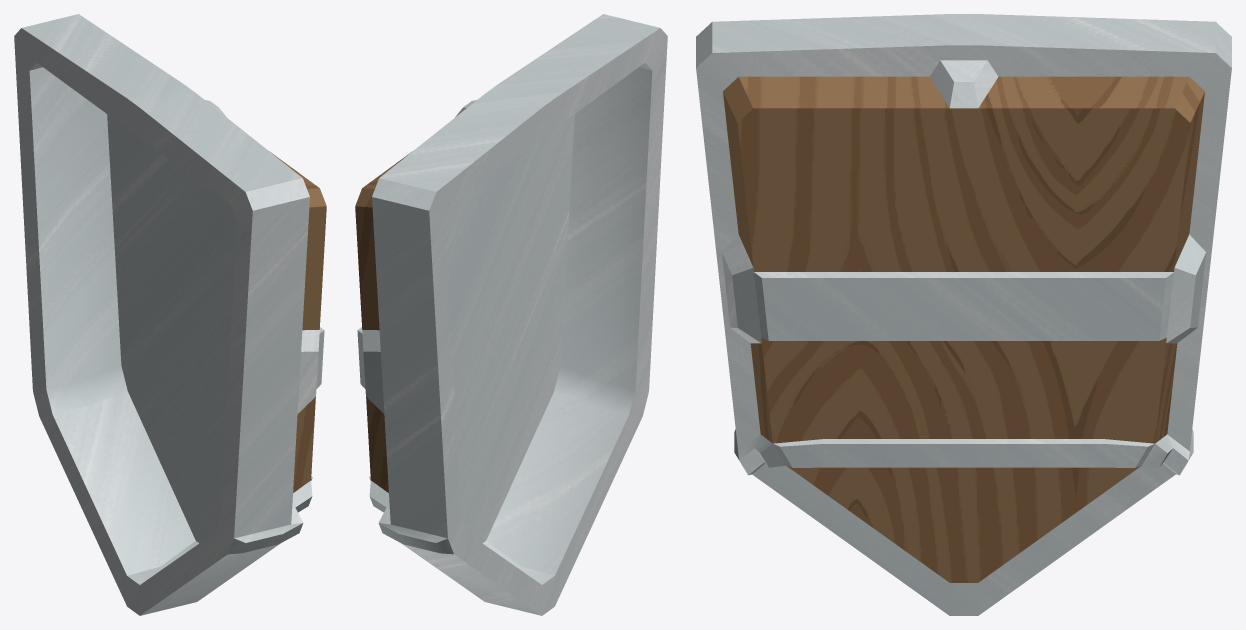
File: ShieldS.fbx
3 renders of one model, left to right at view 1: azimuth 30°, elevation 25°; view 2: azimuth 150°, elevation 25°; view 3: azimuth 270°, elevation 25°, orthographic. The views are drawn at different scales.
Visible parts, largest first — view 1: Shield S; view 2: Shield S; view 3: Shield S.
Part boxes in pixels (bbox=[...]): Shield S: bbox=[14, 14, 326, 615]; Shield S: bbox=[355, 14, 667, 615]; Shield S: bbox=[696, 14, 1231, 615].
Bounding box in the file's own units: 0.1804 × 0.8673 × 0.7383.
